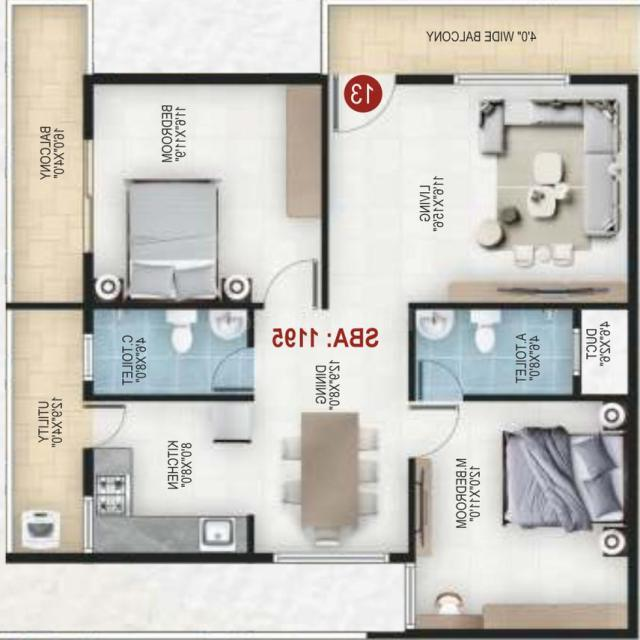Balcony-Sitout: (12, 7, 86, 301), (328, 7, 638, 72)
Bedroom: (95, 85, 324, 301)
Bedroom with Toilet: (418, 305, 629, 633)
Dining: (273, 405, 383, 554)
Enterance-Foyer: (332, 74, 392, 142)
Kitchen: (95, 405, 246, 550)
Living: (333, 85, 626, 305)
Toilet: (416, 312, 574, 394), (95, 312, 247, 391)
Utility: (9, 310, 82, 554)
